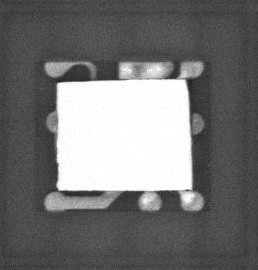DIE_BROKEN: (183, 78, 192, 149), (57, 79, 127, 83)
